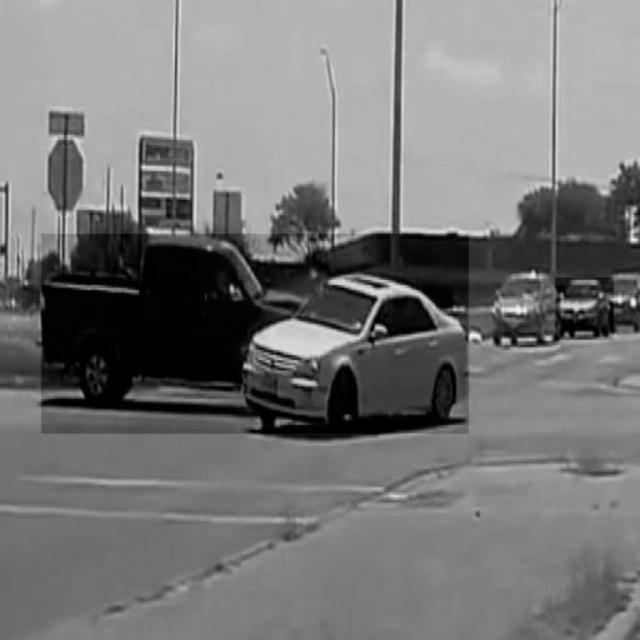accident: (42, 234, 470, 434)
vehicle: (491, 270, 568, 344), (555, 278, 613, 340)
